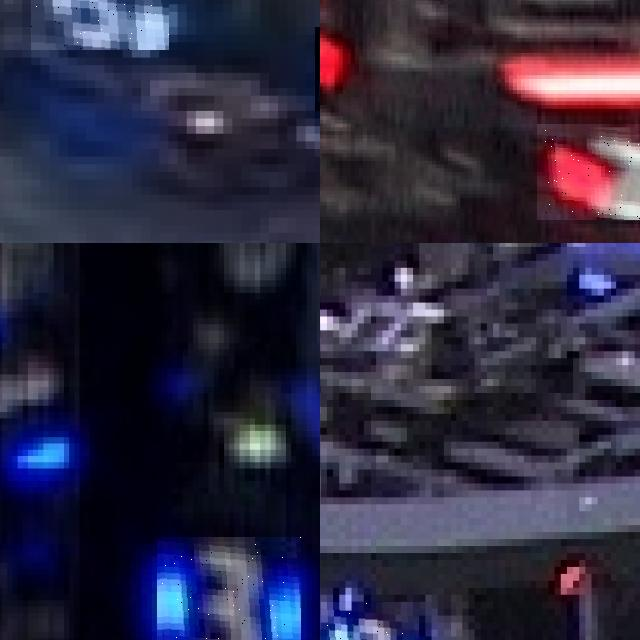B2: (320, 601, 419, 640)
B3: (156, 537, 301, 640)
B5: (31, 0, 168, 49)
R2: (537, 123, 640, 220)
